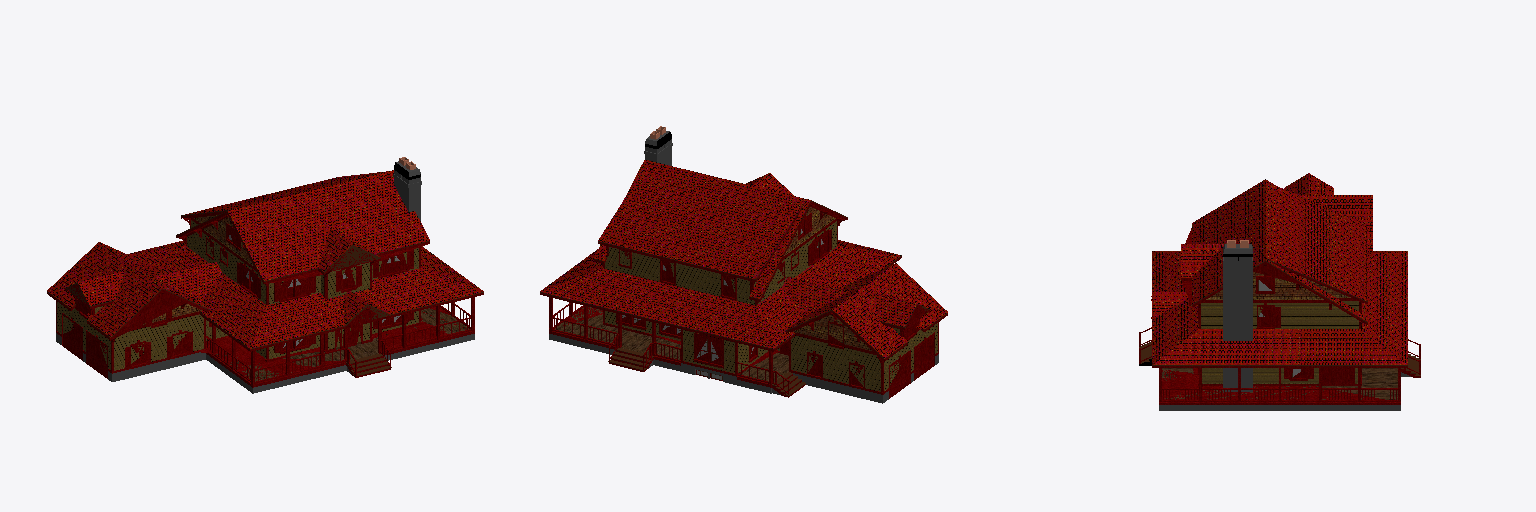
3 renders of one model, left to right at view 1: azimuth 30°, elevation 25°; view 2: azimuth 150°, elevation 25°; view 3: azimuth 270°, elevation 25°, orthographic.
Parts seen in each view (by area): view 1: Mesh94 Model; view 2: Mesh94 Model; view 3: Mesh94 Model.
Part boxes in pixels (x1,y1,x2,y2): Mesh94 Model: (47, 157, 483, 393); Mesh94 Model: (540, 126, 947, 403); Mesh94 Model: (1139, 173, 1420, 410).
Bounding box in the file's own units: 925 × 419 × 686.
20 materials, 5 textured.